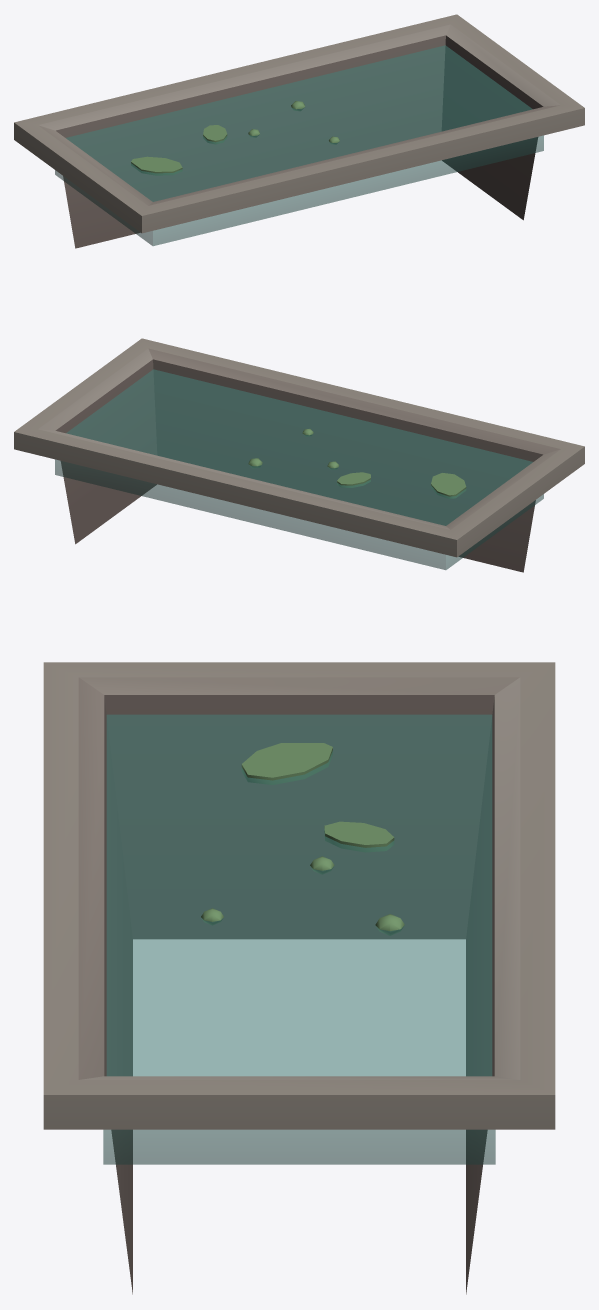
Rendered from floor_water_channel_B.glb.
3 renders of one model, top to bottom at view 1: azimuth 30°, elevation 25°; view 2: azimuth 150°, elevation 25°; view 3: azimuth 270°, elevation 25°, orthographic. The views are drawn at different scales.
Parts seen in each view (by area): view 1: Item; view 2: Item; view 3: Item.
Boxes of the visible parts, box(x1,y1,x2,y2) form: Item: box(14, 14, 584, 248); Item: box(14, 338, 584, 572); Item: box(43, 662, 555, 1294).
Bounding box in the file's own units: 4 × 1.03 × 2.
Materials: 3 (3 with a texture image).
